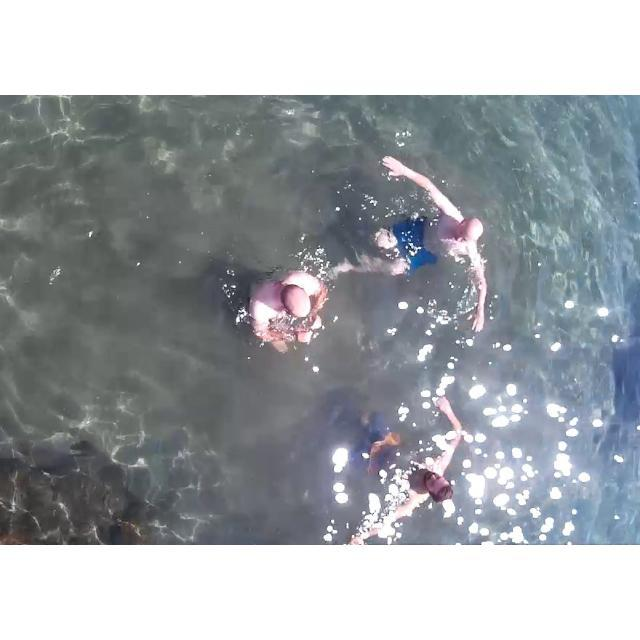human: (349, 133, 489, 346), (359, 375, 468, 545), (218, 247, 337, 350)
